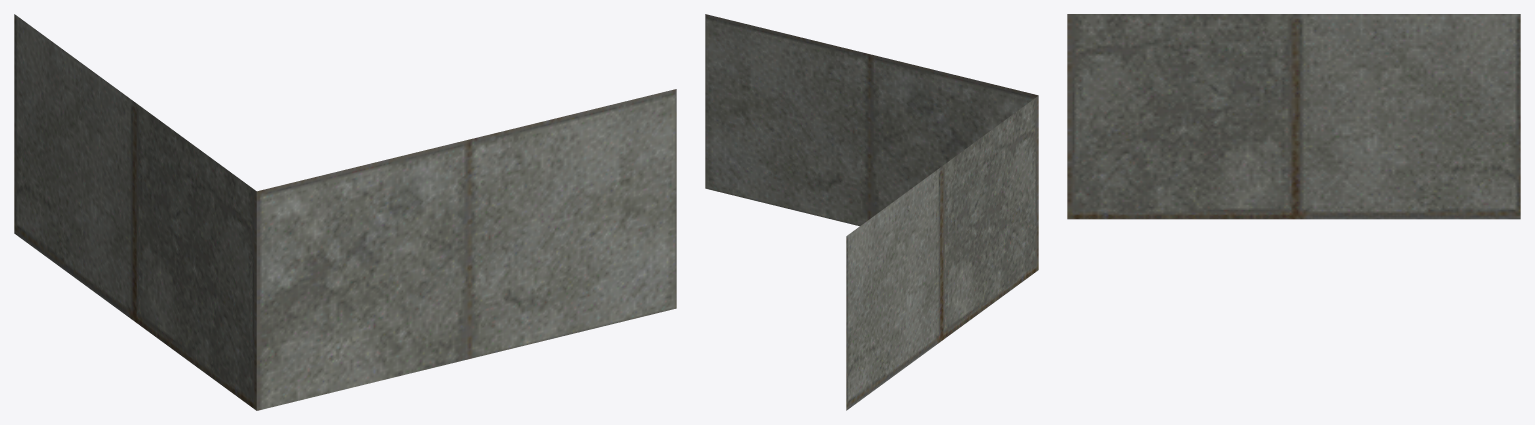
The model's file is floor_block_cnr.fbx.
3 views of the same model, side by side, from view 1: azimuth 30°, elevation 25°; view 2: azimuth 150°, elevation 25°; view 3: azimuth 270°, elevation 25° (orthographic). The views are drawn at different scales.
Parts seen in each view (by area): view 1: floor_block_cnr; view 2: floor_block_cnr; view 3: floor_block_cnr.
Boxes of the visible parts, x1,y1,x2,y2 form: floor_block_cnr: [14, 14, 676, 410]; floor_block_cnr: [705, 14, 1038, 410]; floor_block_cnr: [1067, 14, 1520, 219].
Size of the model in its own units: 100 by 50 by 100.
